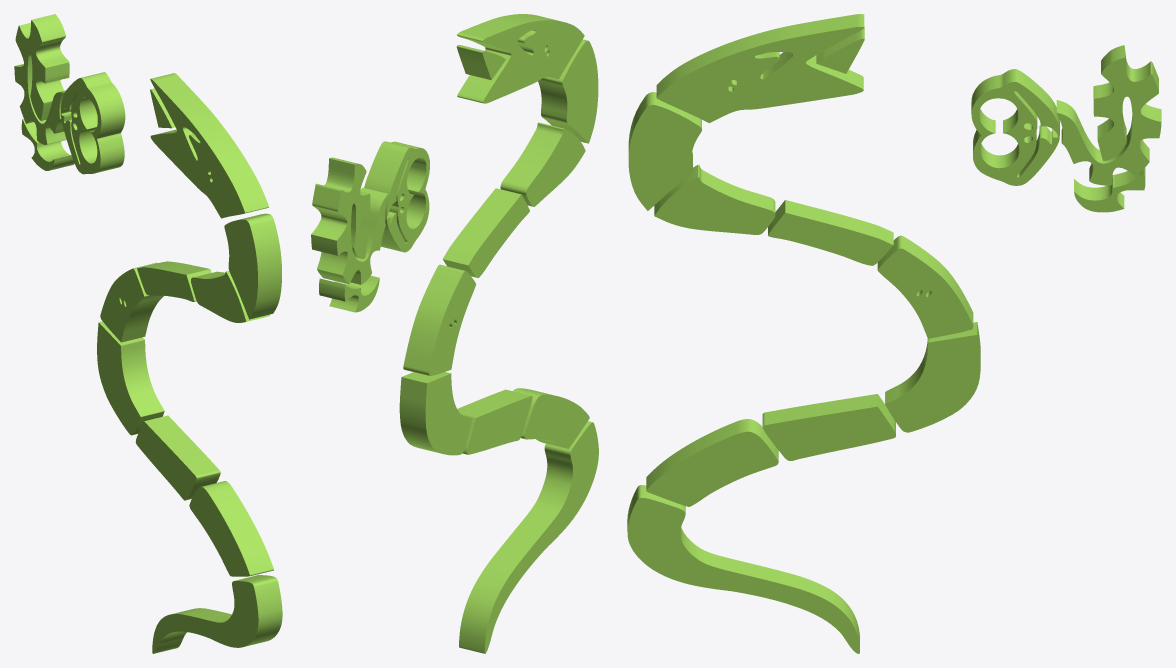
The model's file is SnakeGreens.obj.
3 views of the same model, side by side, from view 1: azimuth 30°, elevation 25°; view 2: azimuth 150°, elevation 25°; view 3: azimuth 270°, elevation 25° (orthographic). The views are drawn at different scales.
Visible parts, largest first — view 1: Body46, Body53, Body80, Body81, Body50, Body48, Body49, Body44, Body52, Body45, Body47, Body85 (+1 smaller); view 2: Body53, Body81, Body46, Body80, Body52, Body49, Body45, Body50, Body47, Body44, Body48, Body85 (+1 smaller); view 3: Body46, Body53, Body81, Body80, Body48, Body49, Body44, Body50, Body45, Body52, Body47, Body85 (+1 smaller).
Part boxes in pixels (box(x1,y1,x2,y2)): Body46: box(150, 73, 268, 218); Body53: box(152, 575, 282, 653); Body80: box(61, 72, 125, 174); Body81: box(14, 14, 69, 144); Body50: box(224, 213, 281, 319); Body48: box(189, 481, 273, 576); Body49: box(97, 321, 164, 435); Body44: box(135, 415, 220, 500); Body52: box(100, 262, 163, 342); Body45: box(191, 271, 270, 322); Body47: box(137, 261, 211, 301); Body85: box(21, 118, 74, 170); Body53: box(459, 421, 598, 653); Body81: box(311, 157, 388, 284); Body46: box(457, 14, 584, 103); Body80: box(364, 141, 429, 252); Body52: box(403, 264, 476, 375); Body49: box(399, 372, 472, 455); Body45: box(500, 122, 585, 206); Body50: box(538, 39, 598, 143); Body47: box(442, 188, 529, 277); Body44: box(457, 389, 532, 454); Body48: box(513, 388, 589, 448); Body85: box(319, 275, 379, 312); Body46: box(656, 14, 864, 123); Body53: box(627, 485, 859, 653); Body81: box(1056, 45, 1161, 185); Body80: box(971, 69, 1059, 185); Body48: box(646, 419, 778, 506); Body49: box(885, 322, 980, 432); Body44: box(762, 394, 895, 460); Body50: box(628, 92, 701, 210); Body45: box(654, 164, 775, 234); Body52: box(877, 235, 973, 338); Body47: box(768, 200, 893, 265); Body85: box(1074, 167, 1145, 212).
Size of the model in its own units: 0.27 by 6.15 by 4.75.
